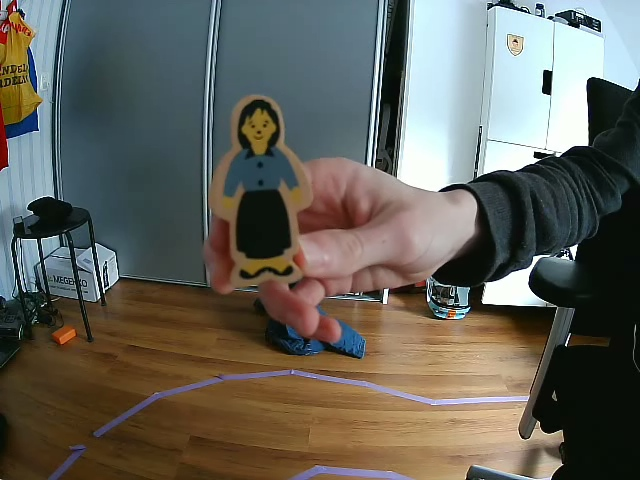mens: (205, 94, 312, 286)
